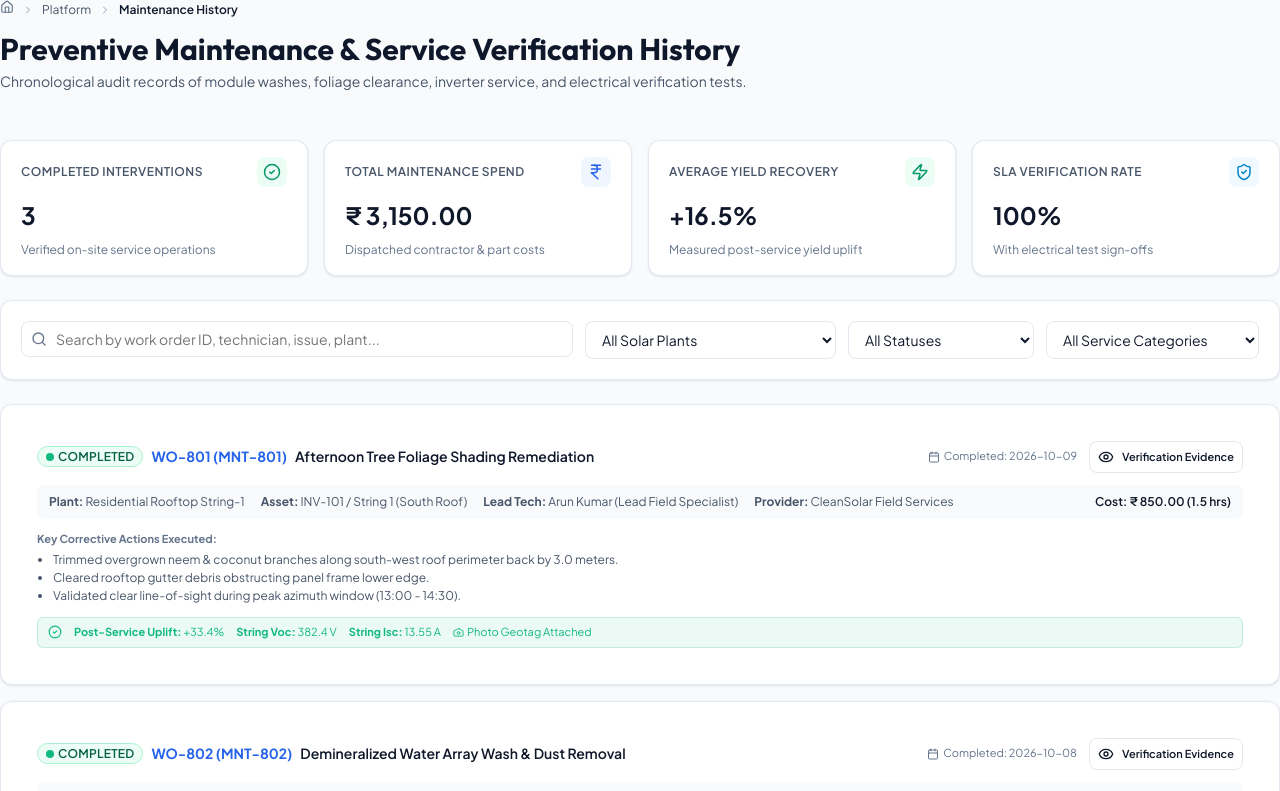
Test case: MaintenancePage Component Suite › opens and displays the field verification evidence modal
Expected: the text "WO-801 (MNT-801)" is shown, [151, 446, 287, 467]
Click the button "Verification Evidence" next to "Completed: 2026-10-09".
click(1166, 456)  # box [1089, 440, 1243, 472]
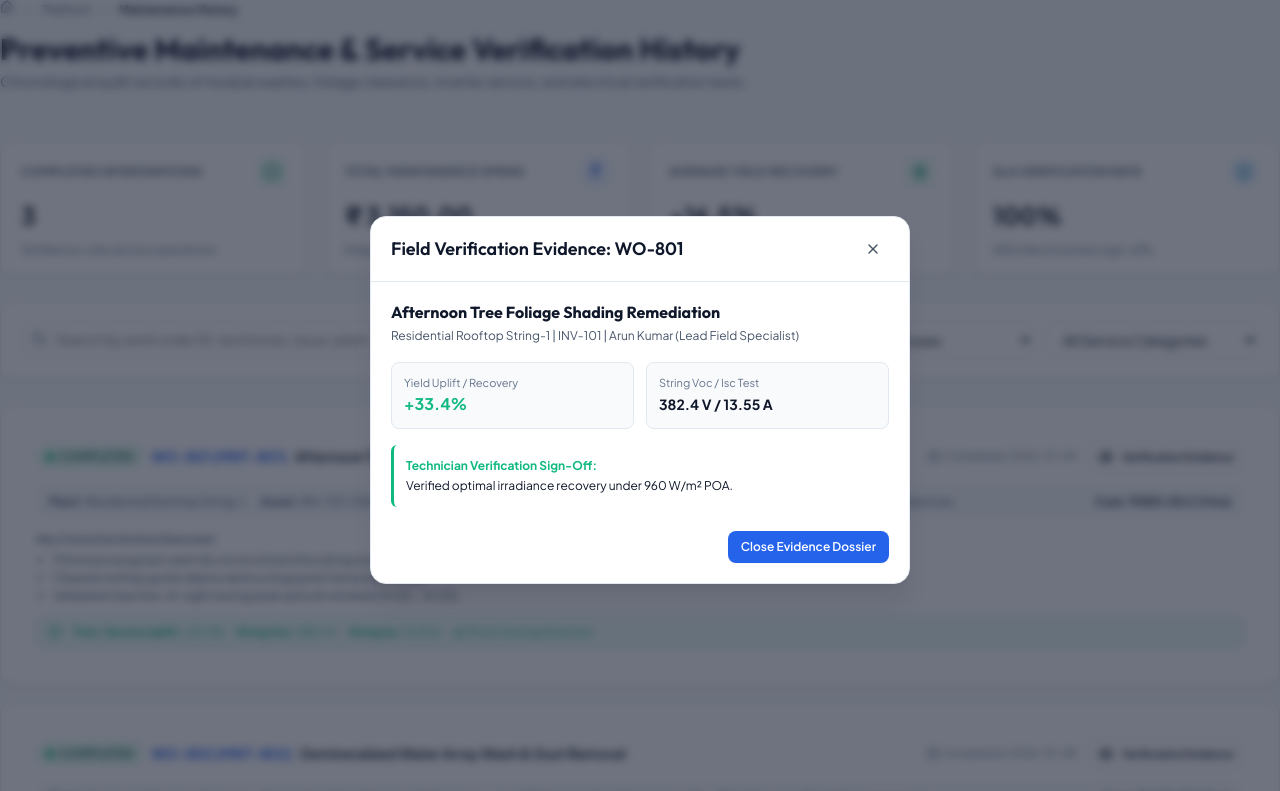
Result: the heading "Field Verification Evidence: WO-801" is shown at [391, 238, 683, 260]
Result: the text "Yield Uplift / Recovery" is shown at [404, 376, 518, 389]
Result: the text "String Voc / Isc Test" is shown at [659, 376, 759, 389]
Note: Close modal
Click the button "Close Evidence Dossier".
click(808, 547)  # box [728, 531, 889, 563]
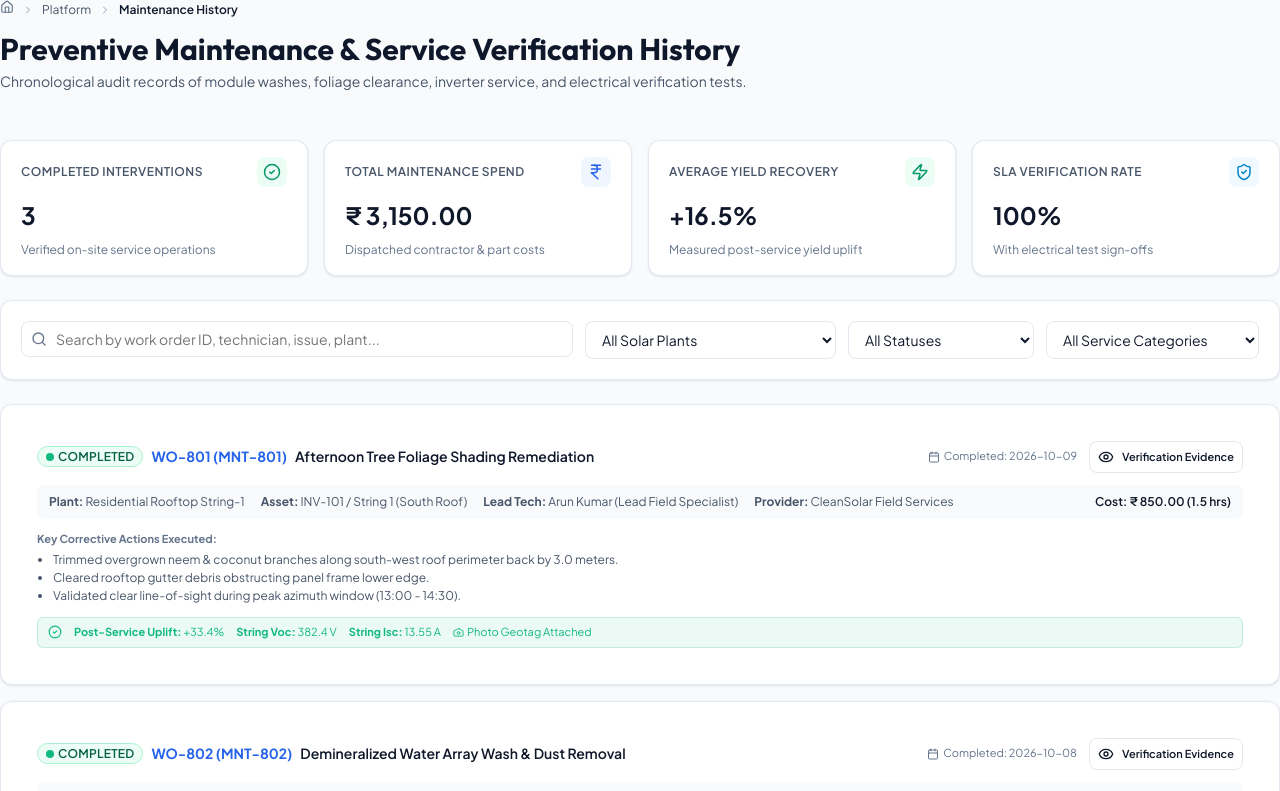
Result: the heading "Field Verification Evidence: WO-801" is gone
